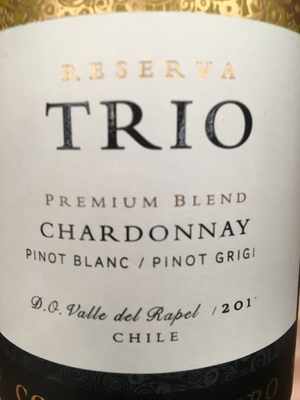trio chardonnay: (2, 4, 296, 400)
